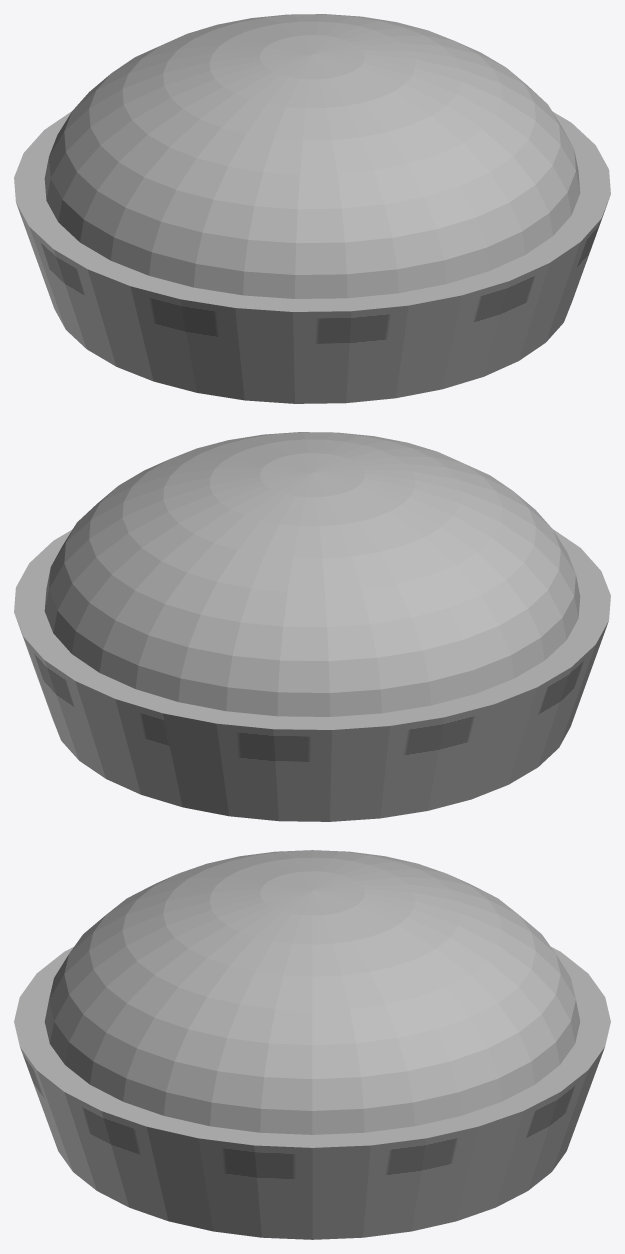
Rendered from Dome.fbx.
3 renders of one model, top to bottom at view 1: azimuth 30°, elevation 25°; view 2: azimuth 150°, elevation 25°; view 3: azimuth 270°, elevation 25°, orthographic.
Visible parts, largest first — view 1: Dome; view 2: Dome; view 3: Dome.
Boxes of the visible parts, <box> form: Dome: <box>14,14,610,403</box>; Dome: <box>14,432,610,821</box>; Dome: <box>14,850,610,1239</box>.
Size of the model in its own units: 8 by 3.54 by 8.
